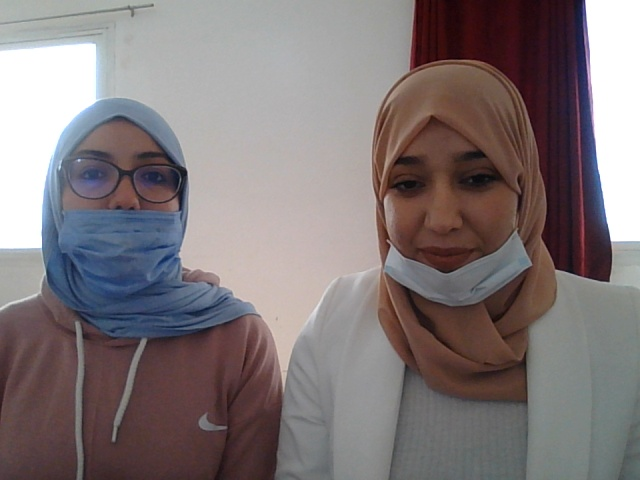mask_weared_incorrect: (371, 74, 545, 295), (30, 93, 195, 304)
